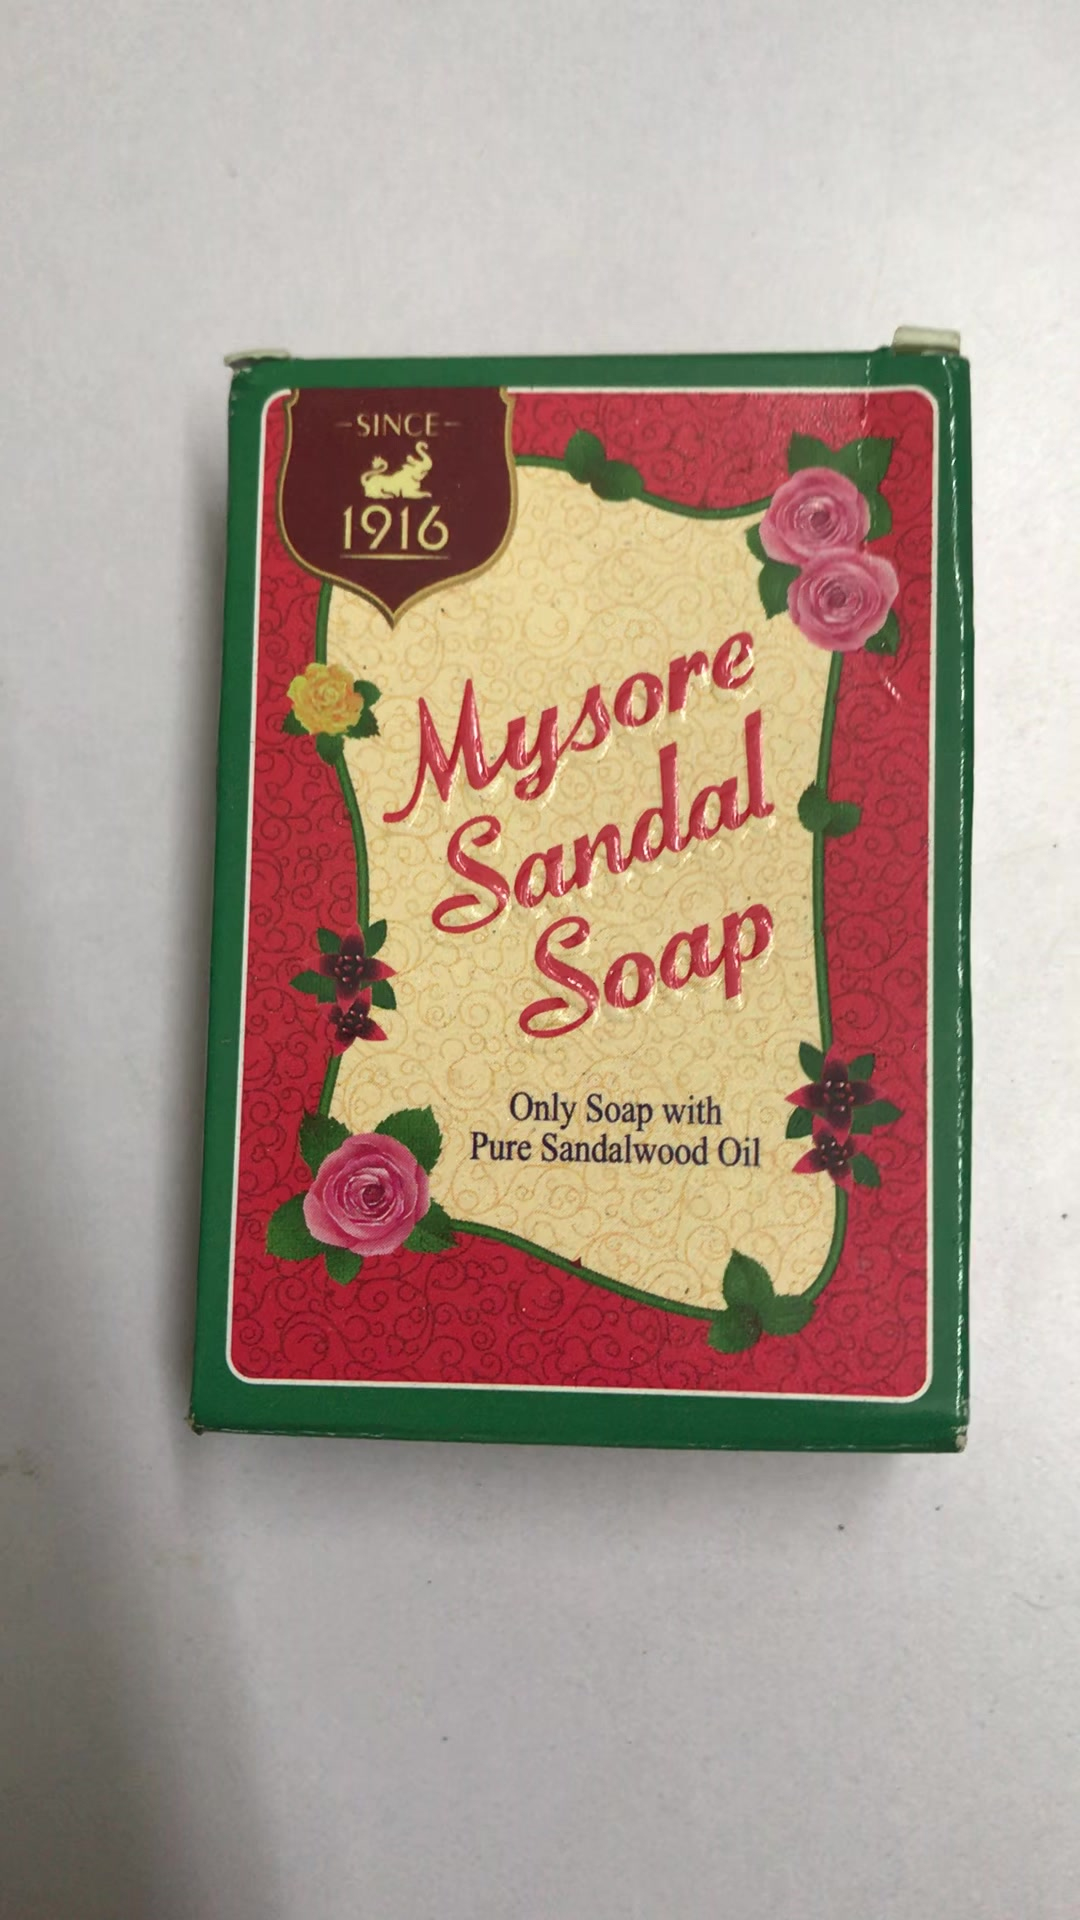mysore sandal soap: (196, 331, 971, 1444)
